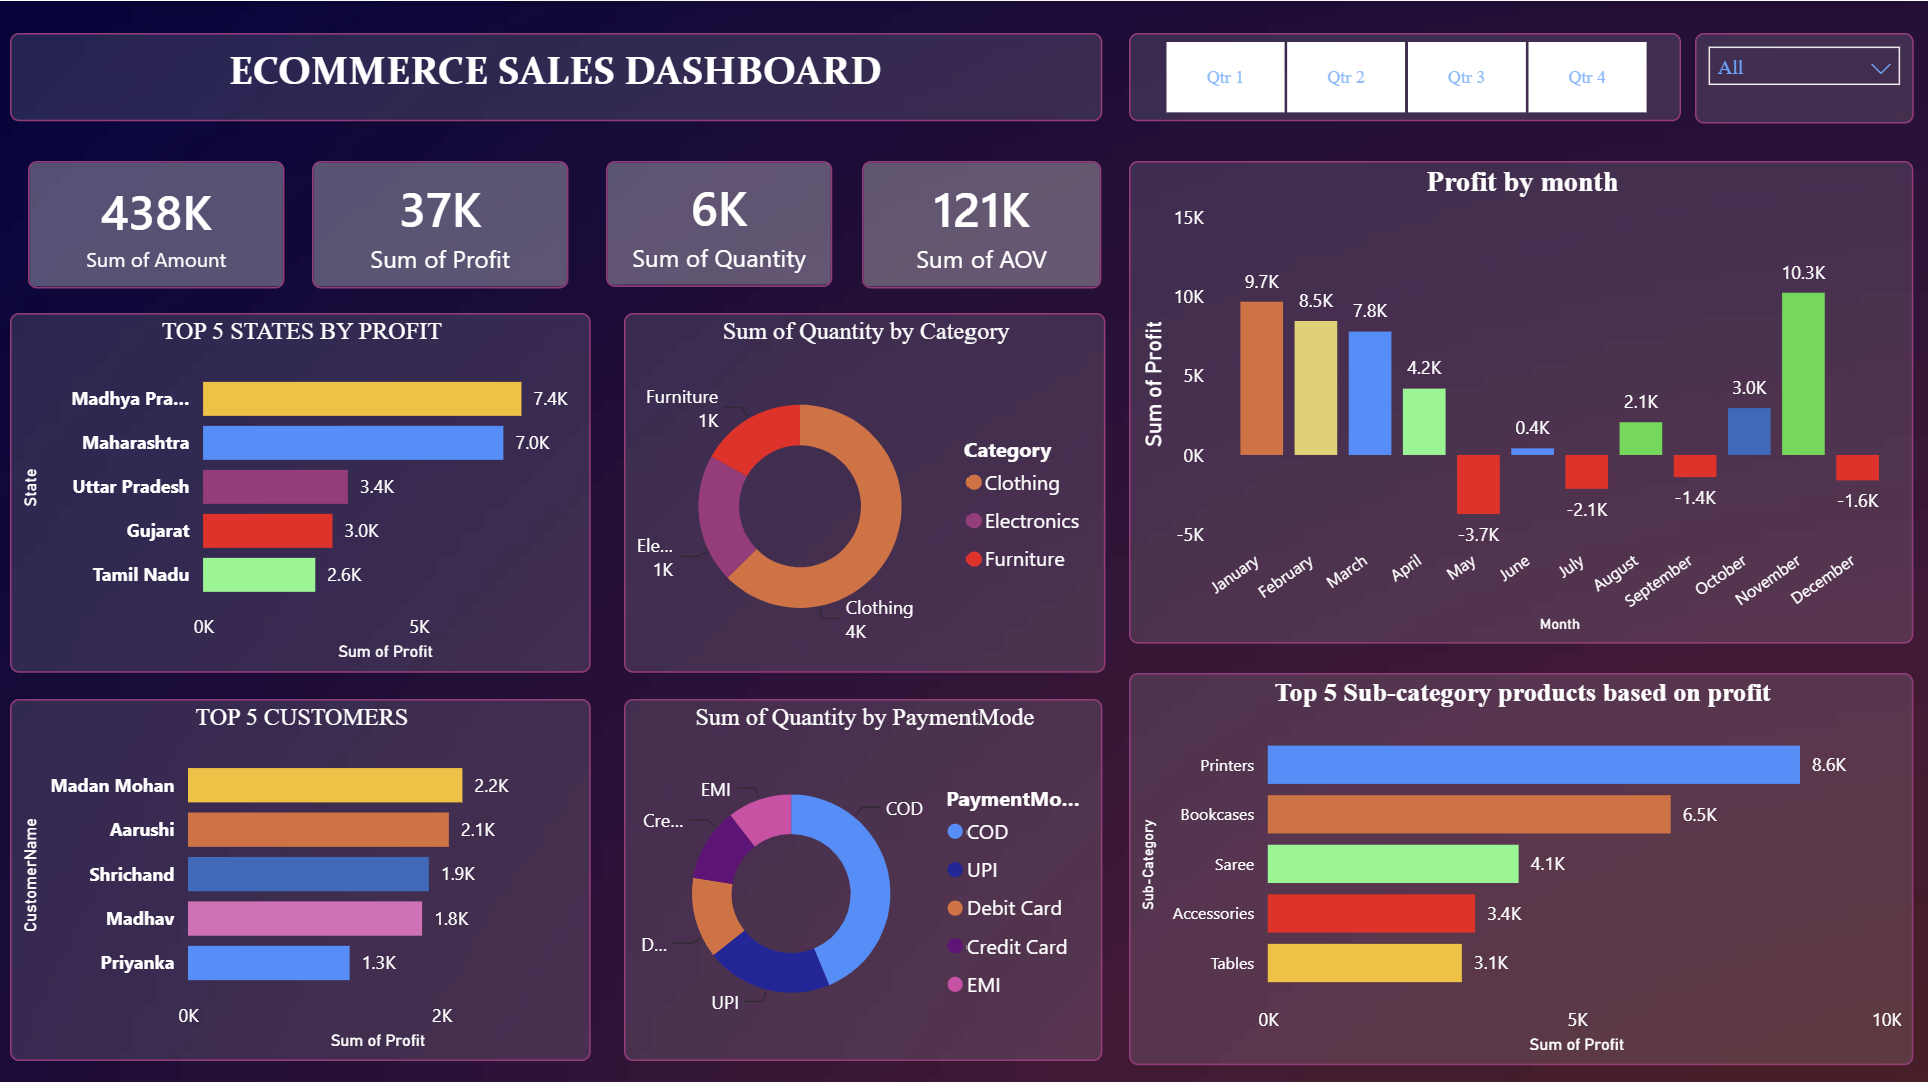

Layout of this report page (visuals, bound fields, positions):
{"tool":"powerbi","page":{"name":"Page 1","canvas":[1280,720],"ordinal":0},"visuals":[{"type":"textbox","box":[6.7,21.7,723.3,58.3],"z":0},{"type":"clusteredColumnChart","title":"Profit by month","fields":{"Category":["ORDERS.Order Date.Variation.Date Hierarchy.Month"],"Y":["Sum(order_DETAILS.Profit)"]},"box":[748.3,106.7,520,320],"z":1000},{"type":"barChart","title":"TOP 5 STATES BY PROFIT","fields":{"Category":["ORDERS.State"],"Y":["Sum(order_DETAILS.Profit)"]},"box":[6.7,206.7,385,238.3],"z":2000},{"type":"clusteredBarChart","title":"Top 5 Sub-category products based on profit","fields":{"Y":["Sum(order_DETAILS.Profit)"],"Category":["order_DETAILS.Sub-Category"]},"box":[748.3,445,520,260],"z":3000},{"type":"barChart","title":"TOP 5 CUSTOMERS","fields":{"Category":["ORDERS.CustomerName"],"Y":["Sum(order_DETAILS.Profit)"]},"box":[6.7,463.3,385,240],"z":4000},{"type":"donutChart","fields":{"Category":["order_DETAILS.PaymentMode"],"Y":["Sum(order_DETAILS.Quantity)"]},"box":[413.3,463.3,316.7,240],"z":5000},{"type":"cardVisual","fields":{"Data":["Sum(order_DETAILS.Profit)"]},"box":[207.3,105.5,170,84.5],"z":6000},{"type":"cardVisual","fields":{"Data":["Sum(order_DETAILS.Quantity)"]},"box":[401.8,105.5,150,83.6],"z":7000},{"type":"cardVisual","fields":{"Data":["Sum(order_DETAILS.AOV)"]},"box":[571.8,105.5,158.2,84.5],"z":8000},{"type":"donutChart","fields":{"Category":["order_DETAILS.Category"],"Y":["Sum(order_DETAILS.Quantity)"]},"box":[413.3,206.7,318.3,238.3],"z":9000},{"type":"cardVisual","fields":{"Data":["Sum(order_DETAILS.Amount)"]},"box":[18.2,105.5,170,84.5],"z":9001},{"type":"slicer","fields":{"Values":["ORDERS.Order Date.Variation.Date Hierarchy.Quarter"]},"box":[748.3,21.7,365.8,58.3],"z":9002},{"type":"slicer","fields":{"Values":["ORDERS.State"]},"box":[1123.3,21.7,145,60],"z":9003}]}

Visuals, with their boxes in screenshot pixels (x1, y1, x2, y2), scaled from the page's 1280x720 canvas onto the 1928x1082 screenshot:
textbox: select_region(10, 33, 1100, 120)
"Profit by month" clusteredColumnChart: select_region(1127, 160, 1910, 641)
"TOP 5 STATES BY PROFIT" barChart: select_region(10, 311, 590, 669)
"Top 5 Sub-category products based on profit" clusteredBarChart: select_region(1127, 669, 1910, 1059)
"TOP 5 CUSTOMERS" barChart: select_region(10, 696, 590, 1057)
donutChart - order_DETAILS.PaymentMode x Sum(order_DETAILS.Quantity): select_region(623, 696, 1100, 1057)
cardVisual - Sum(order_DETAILS.Profit): select_region(312, 159, 568, 286)
cardVisual - Sum(order_DETAILS.Quantity): select_region(605, 159, 831, 284)
cardVisual - Sum(order_DETAILS.AOV): select_region(861, 159, 1100, 286)
donutChart - order_DETAILS.Category x Sum(order_DETAILS.Quantity): select_region(623, 311, 1102, 669)
cardVisual - Sum(order_DETAILS.Amount): select_region(27, 159, 283, 286)
slicer - ORDERS.Order Date.Variation.Date Hierarchy.Quarter: select_region(1127, 33, 1678, 120)
slicer - ORDERS.State: select_region(1692, 33, 1910, 123)
